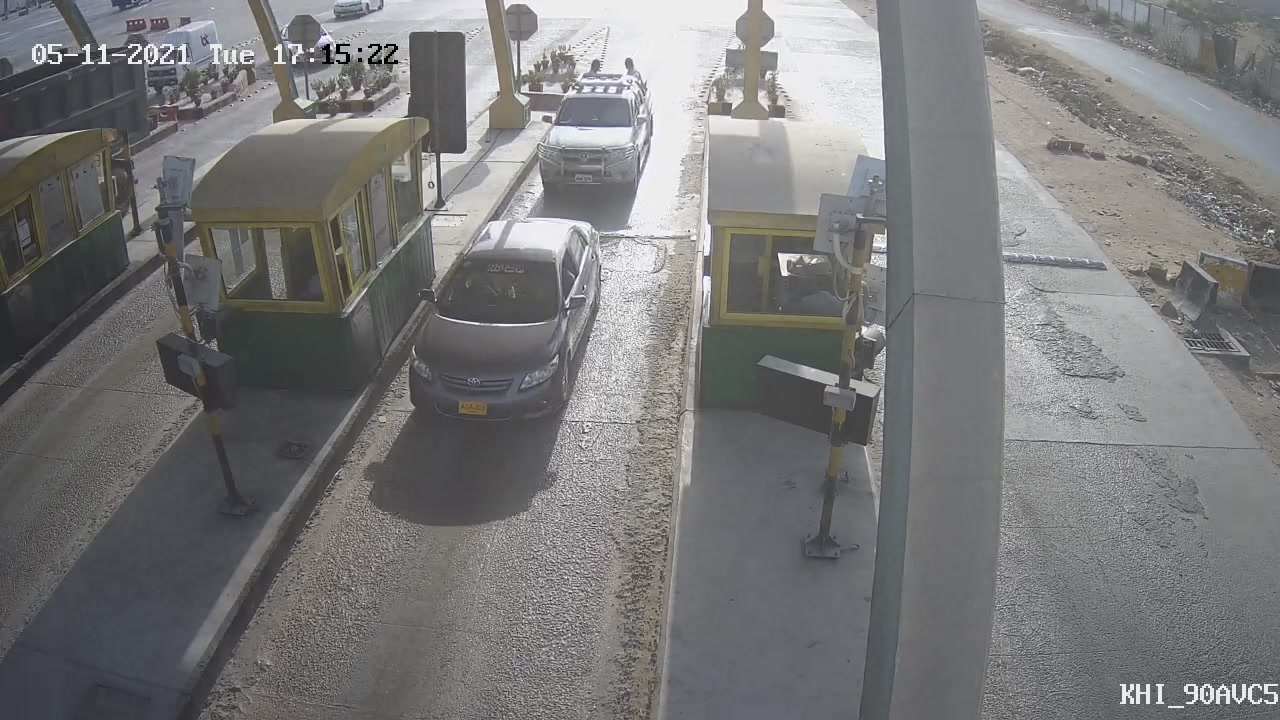F1: (385, 204, 618, 452), (522, 52, 673, 214)
